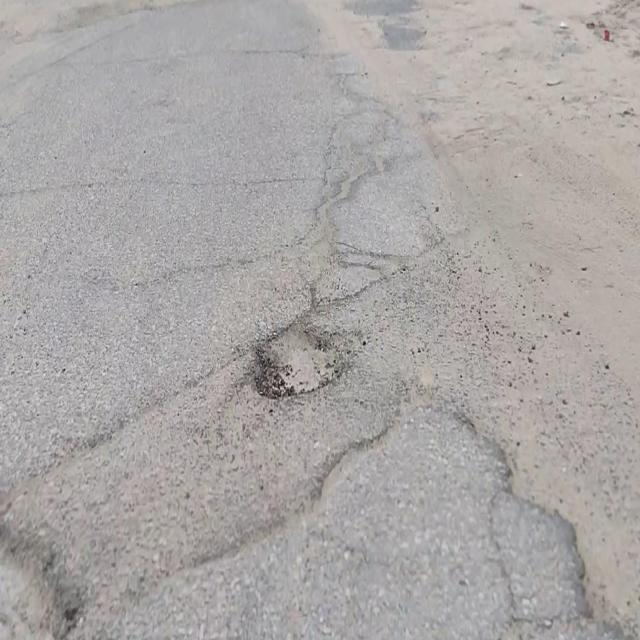Potholes: (0, 489, 87, 640), (248, 315, 355, 400)
